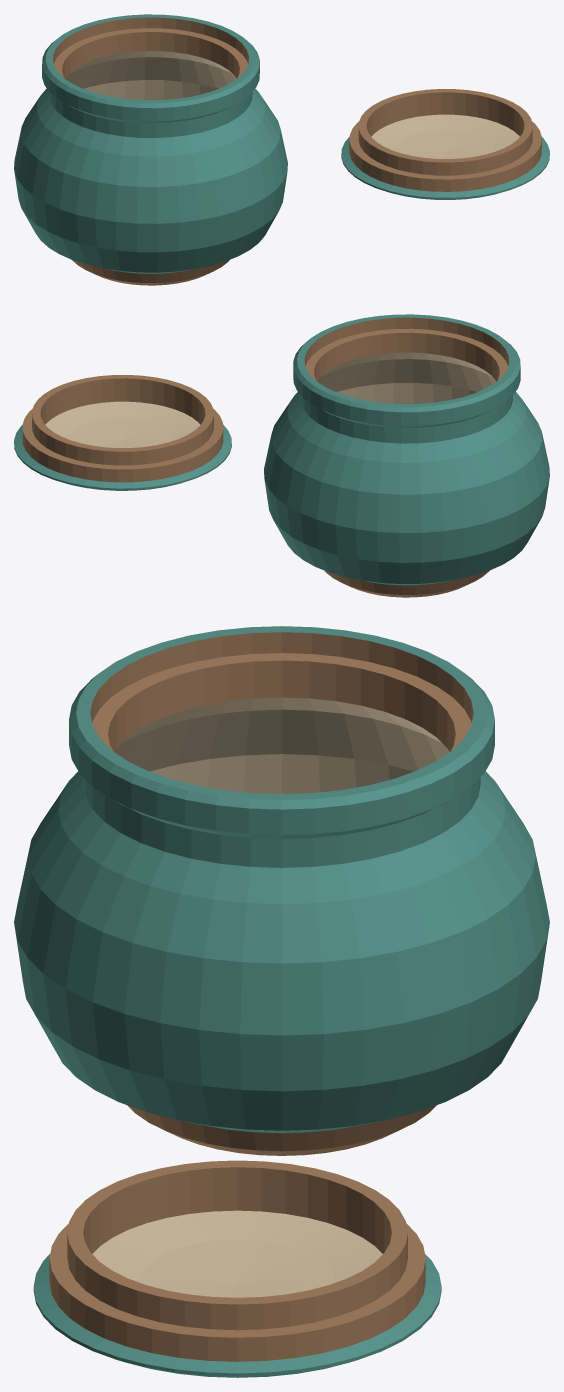
The picture shows the model from 3 angles, top to bottom: view 1: azimuth 30°, elevation 25°; view 2: azimuth 150°, elevation 25°; view 3: azimuth 270°, elevation 25°; orthographic projection. The views are drawn at different scales.
Visible parts, largest first — view 1: Jar_ThickBody, Lid_IntegralKnobAndSkirt; view 2: Jar_ThickBody, Lid_IntegralKnobAndSkirt; view 3: Jar_ThickBody, Lid_IntegralKnobAndSkirt.
Boxes of the visible parts, x1,y1,x2,y2 form: Jar_ThickBody: [14, 14, 287, 285]; Lid_IntegralKnobAndSkirt: [341, 89, 549, 199]; Jar_ThickBody: [264, 314, 549, 597]; Lid_IntegralKnobAndSkirt: [14, 375, 231, 490]; Jar_ThickBody: [14, 626, 549, 1155]; Lid_IntegralKnobAndSkirt: [33, 1160, 441, 1377].
Size of the model in its own units: 0.626 by 0.238 by 0.302.
